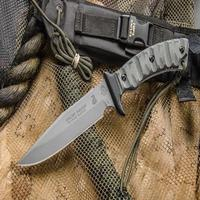knife: (11, 32, 194, 173)
